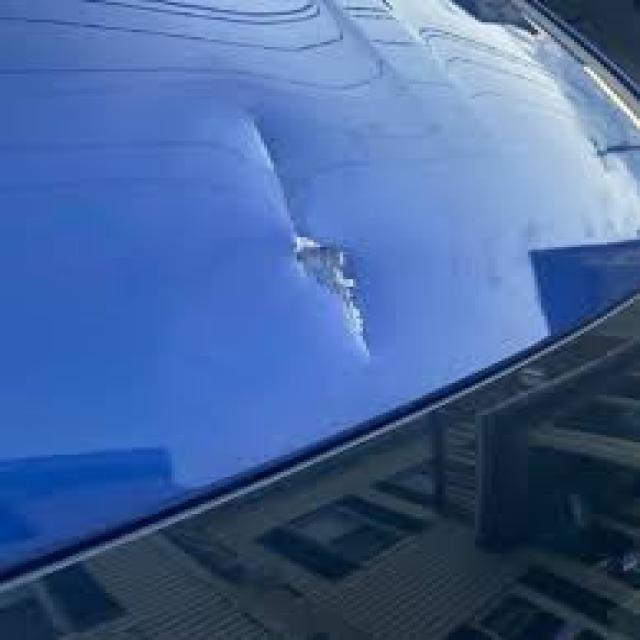Dent: (0, 0, 636, 565), (294, 235, 369, 353)
